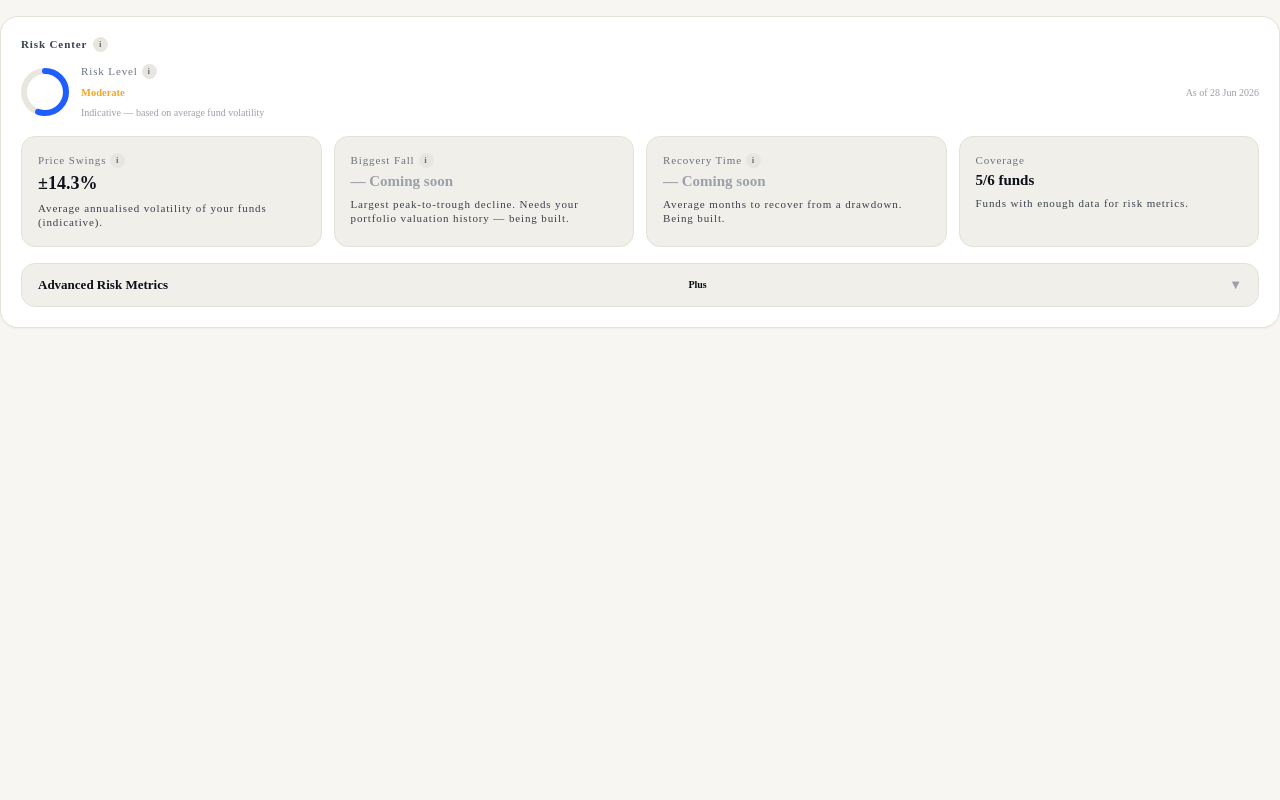
Test: RiskSection › advanced panel: Sharpe/Sortino deferred (B88), rolling return renders
Click the button "Advanced Risk Metrics Plus ▼": (103, 284) [21, 263, 1259, 307]
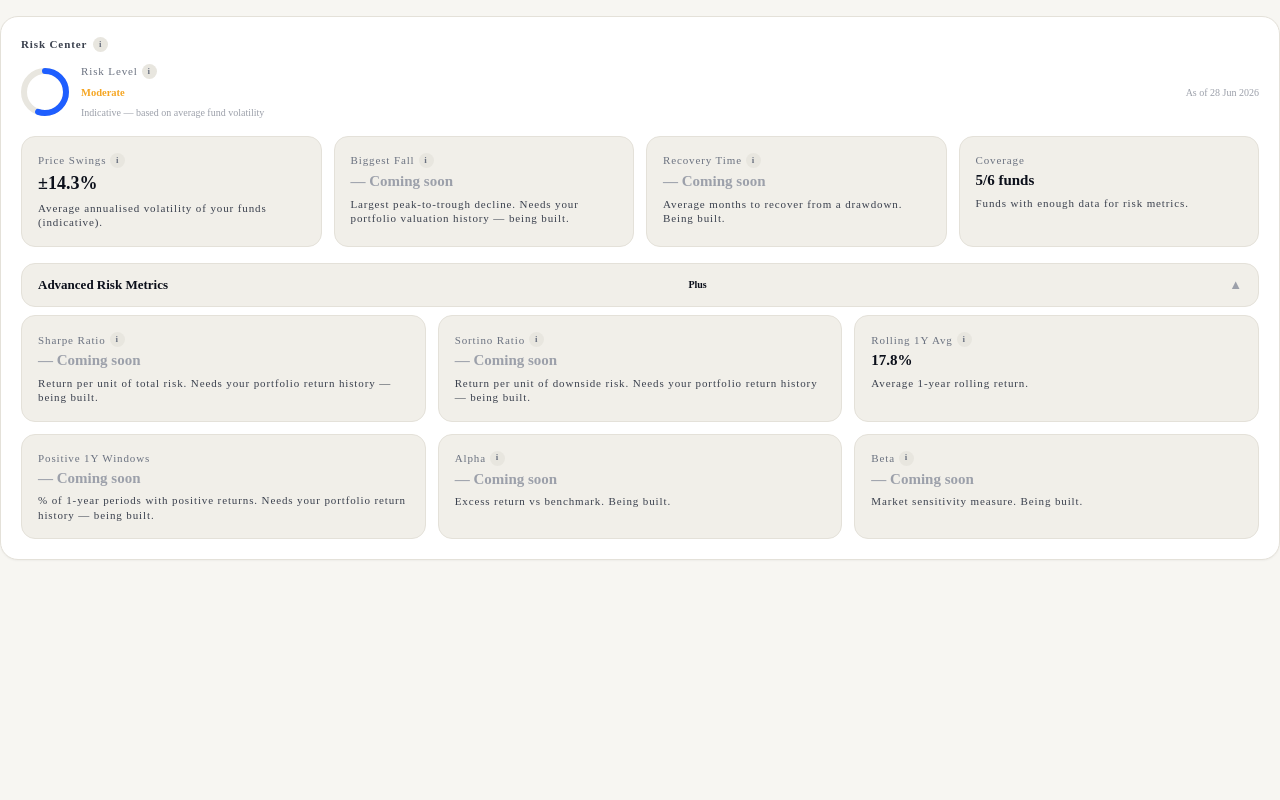
Expected: the text "Sharpe Ratio i" is shown, [38, 332, 125, 347]
Expected: the text "Sortino Ratio i" is shown, [455, 332, 544, 347]
Expected: the text "Rolling 1Y Avg i" is shown, [871, 332, 972, 347]
